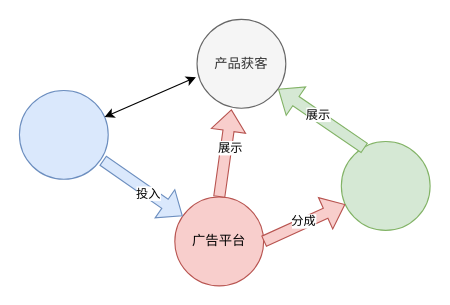
Image size: 450x305. Some labels were removed from this diagram. The shapes that lost their labels are listed below. From the top down, each one's centre as x and y in pixels, then its label:
point 63,134: 广告主
point 385,185: 流量主
